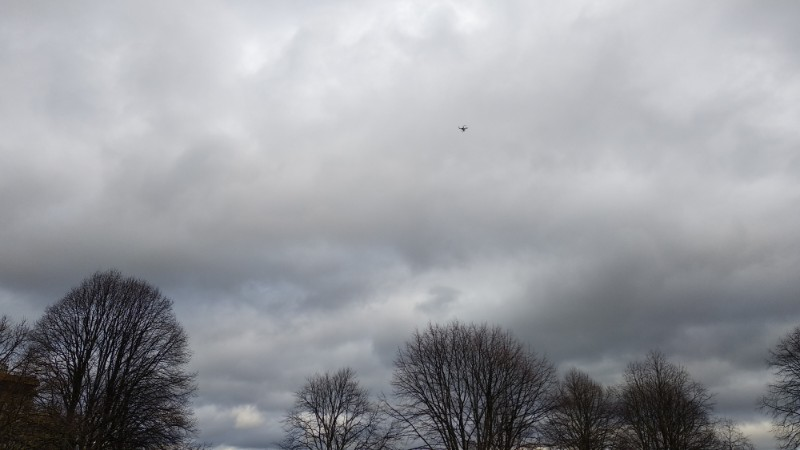drone: (458, 124, 468, 133)
